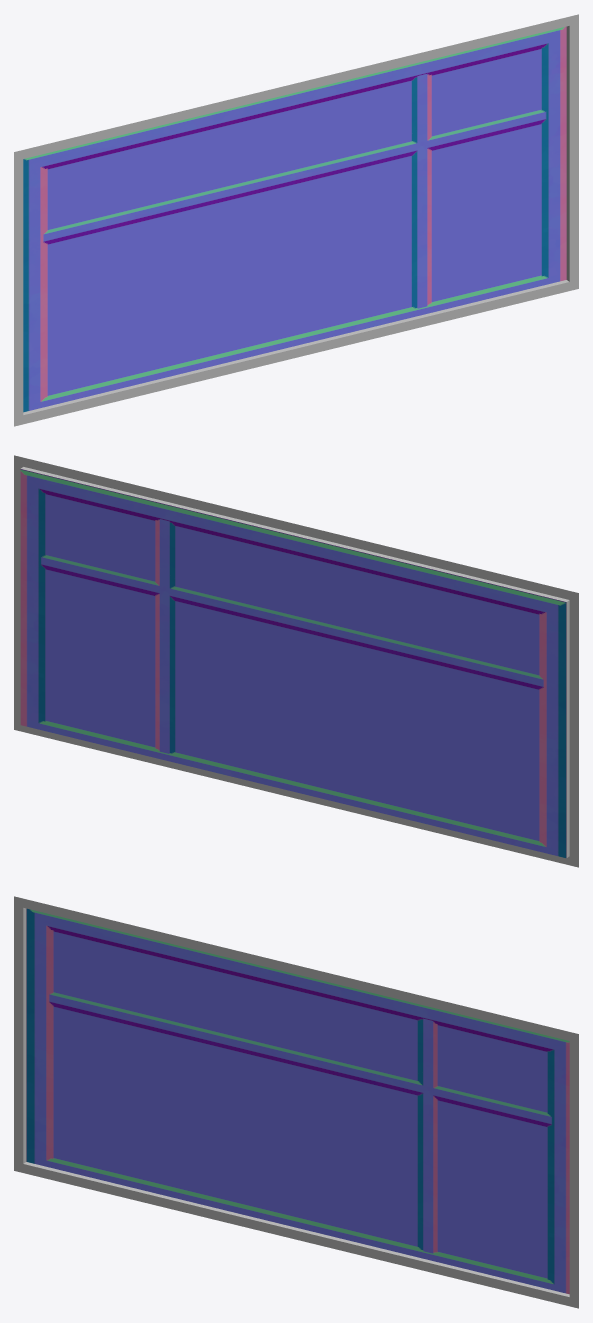
Rendered from SM_ENV_ALLEY_MODULAR_BUILDING_2_SHOWCASE_02.fbx.
3 renders of one model, top to bottom at view 1: azimuth 30°, elevation 25°; view 2: azimuth 150°, elevation 25°; view 3: azimuth 330°, elevation 25°, orthographic.
Visible parts, largest first — view 1: SM_ENV_ALLEY_MODULAR_BUILDING_2_SHOWCASE_02; view 2: SM_ENV_ALLEY_MODULAR_BUILDING_2_SHOWCASE_02; view 3: SM_ENV_ALLEY_MODULAR_BUILDING_2_SHOWCASE_02.
Part boxes in pixels (<box>): SM_ENV_ALLEY_MODULAR_BUILDING_2_SHOWCASE_02: <box>14,14,578,426</box>; SM_ENV_ALLEY_MODULAR_BUILDING_2_SHOWCASE_02: <box>14,455,578,867</box>; SM_ENV_ALLEY_MODULAR_BUILDING_2_SHOWCASE_02: <box>14,896,578,1308</box>.
Size of the model in its own units: 5.6 by 2.6 by 0.05.
